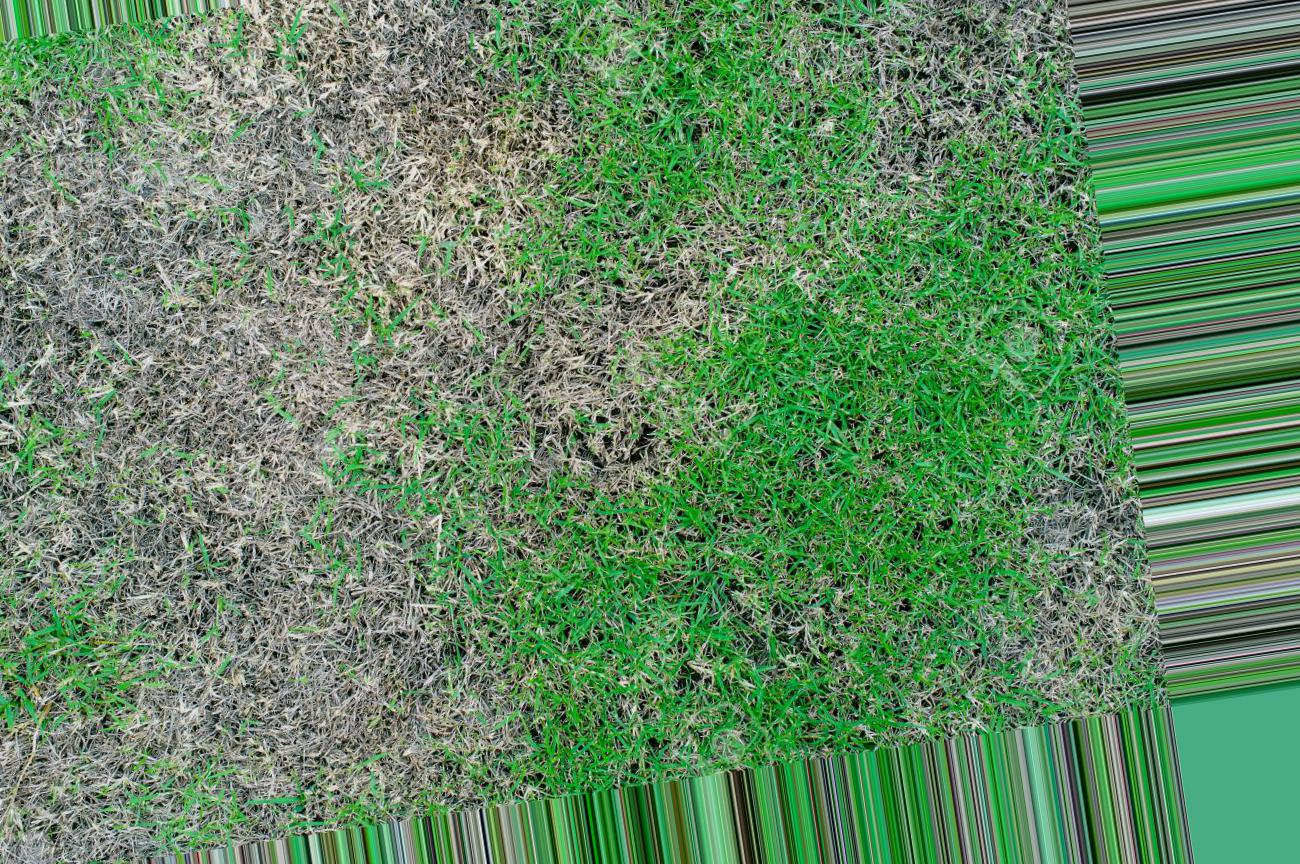patch: (34, 157, 415, 776)
